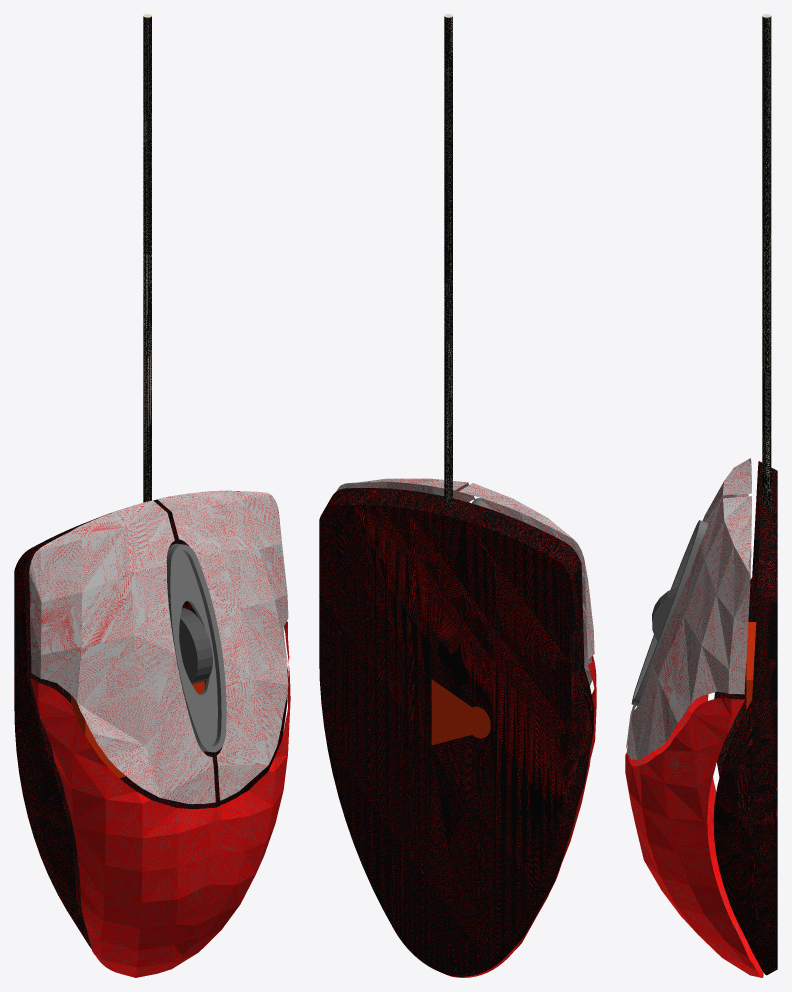
The picture shows the model from 3 angles, left to right: view 1: azimuth 30°, elevation 25°; view 2: azimuth 150°, elevation 25°; view 3: azimuth 270°, elevation 25°; orthographic projection.
Visible parts, largest first — view 1: mouse genius; view 2: mouse genius; view 3: mouse genius.
Part boxes in pixels (x1,y1,x2,y2): mouse genius: [14, 14, 290, 977]; mouse genius: [319, 14, 596, 977]; mouse genius: [625, 14, 777, 977].
Bounding box in the file's own units: 207 × 752 × 109.
